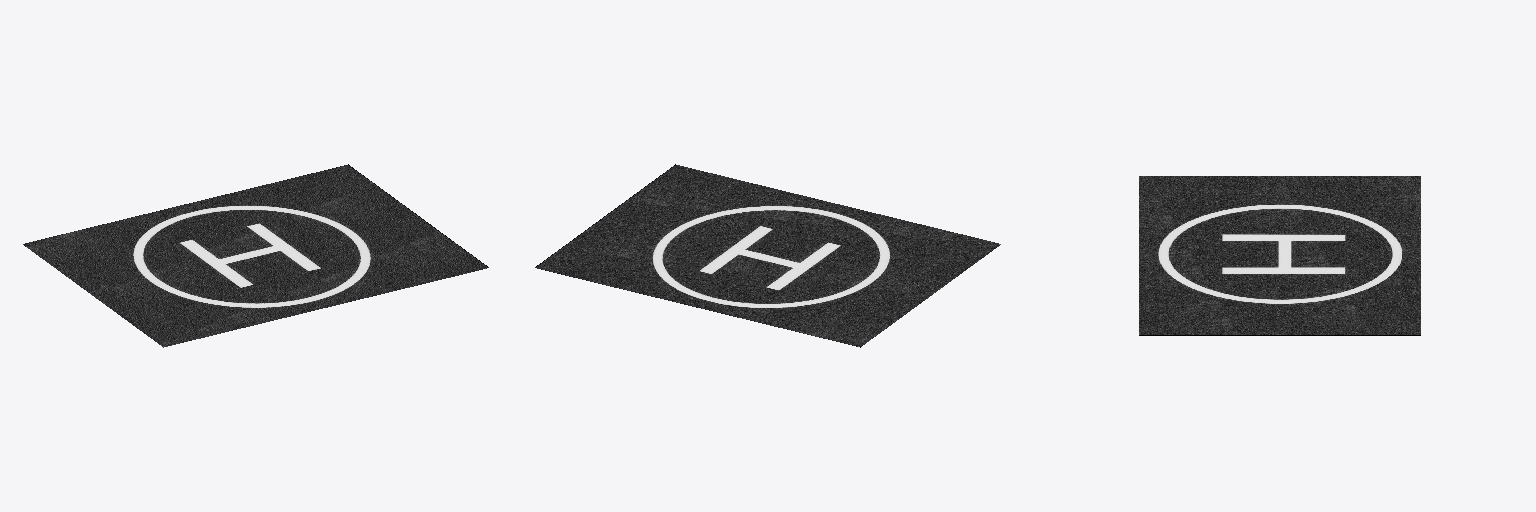
3 views of the same model, side by side, from view 1: azimuth 30°, elevation 25°; view 2: azimuth 150°, elevation 25°; view 3: azimuth 270°, elevation 25° (orthographic).
Parts seen in each view (by area): view 1: Plane; view 2: Plane; view 3: Plane.
Boxes of the visible parts, box(x1,y1,x2,y2) form: Plane: box(23, 164, 488, 347); Plane: box(535, 164, 1000, 347); Plane: box(1139, 176, 1420, 335).
Bounding box in the file's own units: 2 × 0 × 1.5.
1 materials, 1 textured.